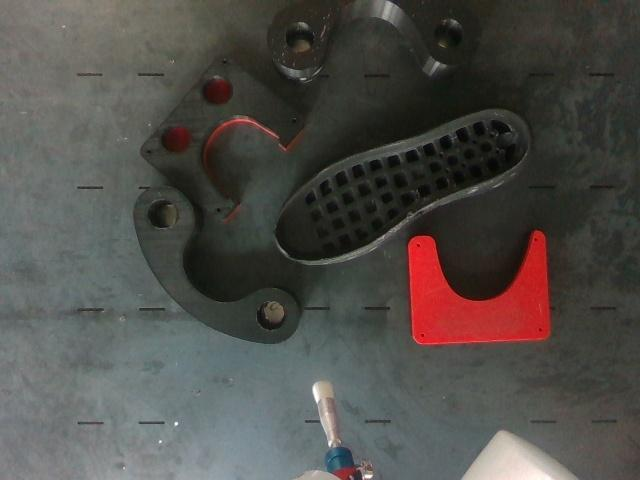shoes: (276, 109, 529, 260)
